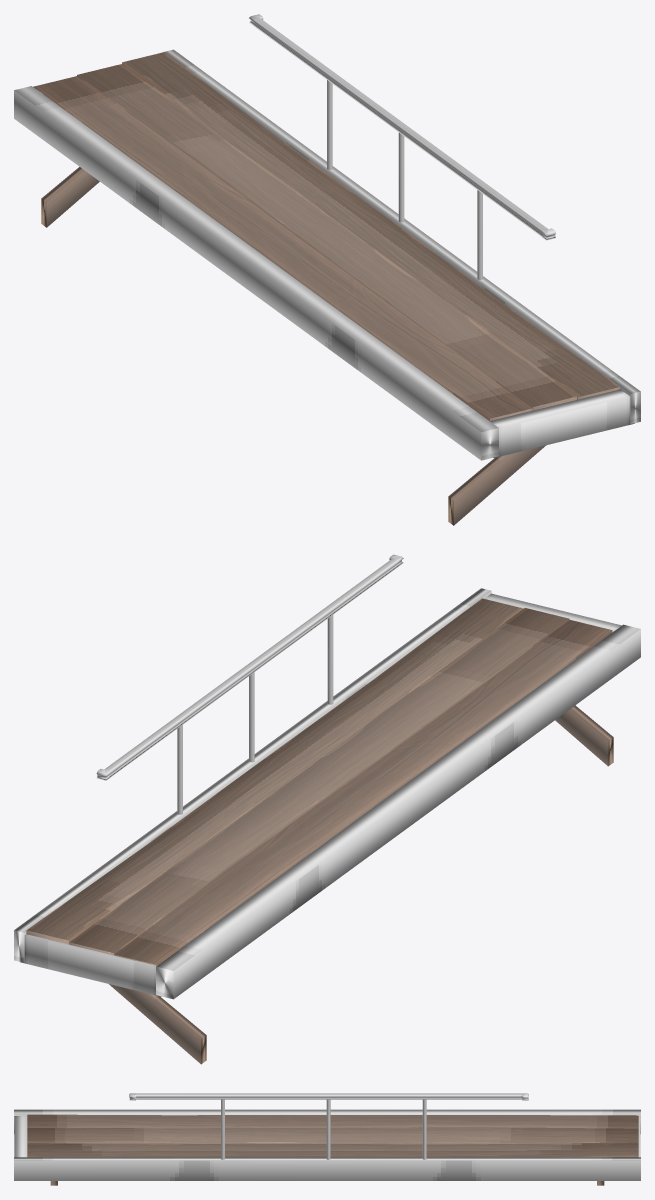
The model's file is SM_WalkwayStairs_Back.fbx.
The picture shows the model from 3 angles, top to bottom: view 1: azimuth 30°, elevation 25°; view 2: azimuth 150°, elevation 25°; view 3: azimuth 270°, elevation 25°; orthographic projection. The views are drawn at different scales.
Parts seen in each view (by area): view 1: SM_WalkwayStairs_Back; view 2: SM_WalkwayStairs_Back; view 3: SM_WalkwayStairs_Back.
Part boxes in pixels (<box>): SM_WalkwayStairs_Back: <box>14,14,640,525</box>; SM_WalkwayStairs_Back: <box>14,554,640,1064</box>; SM_WalkwayStairs_Back: <box>14,1093,640,1185</box>.
Size of the model in its own units: 201 by 1010 by 253.
